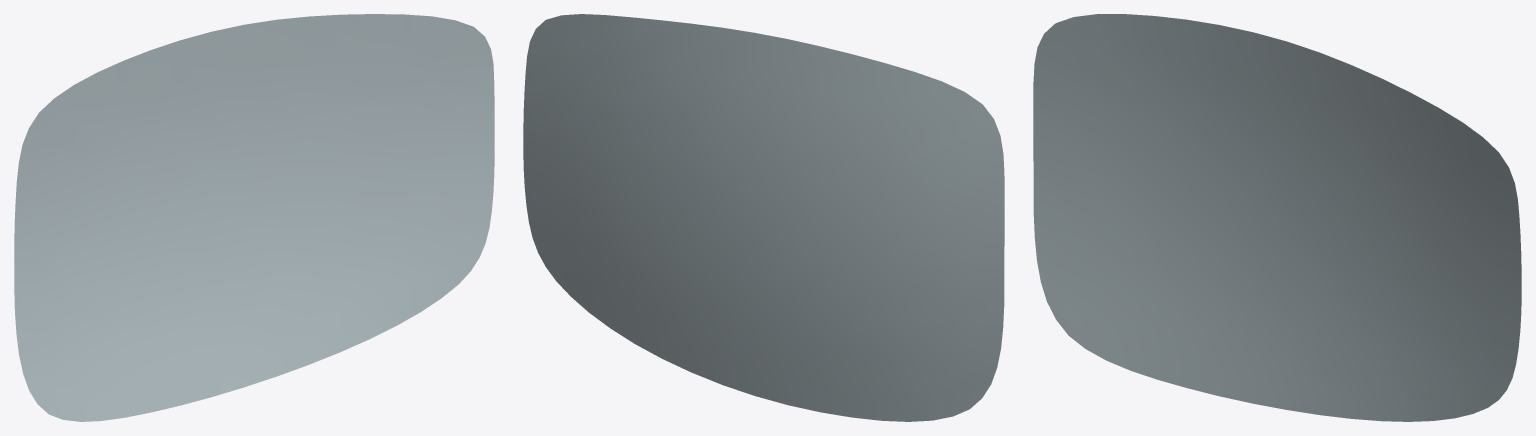
Rendered from lens_right.glb.
3 views of the same model, side by side, from view 1: azimuth 30°, elevation 25°; view 2: azimuth 150°, elevation 25°; view 3: azimuth 330°, elevation 25° (orthographic).
Parts seen in each view (by area): view 1: Lens.R; view 2: Lens.R; view 3: Lens.R.
Part boxes in pixels (box(x1,y1,x2,y2)): Lens.R: box(14, 14, 494, 421); Lens.R: box(523, 14, 1004, 421); Lens.R: box(1033, 14, 1521, 421).
Bounding box in the file's own units: 4.23 × 3.08 × 0.2663.
